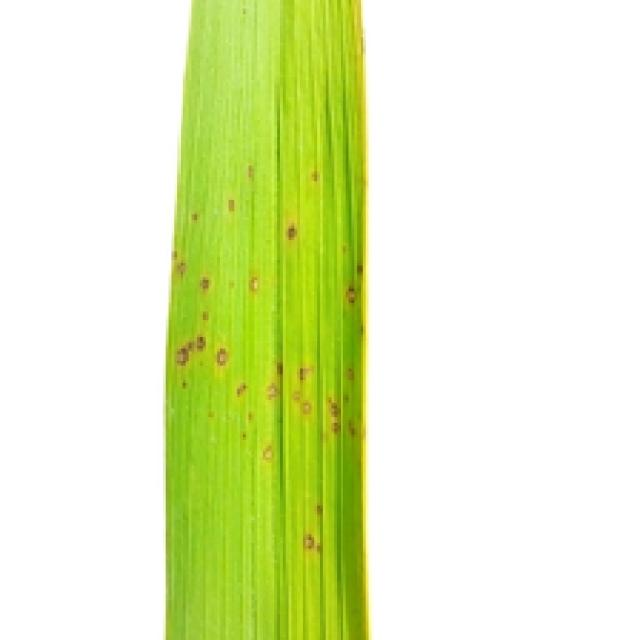Rice___Brown_Spot: (165, 1, 371, 637)
